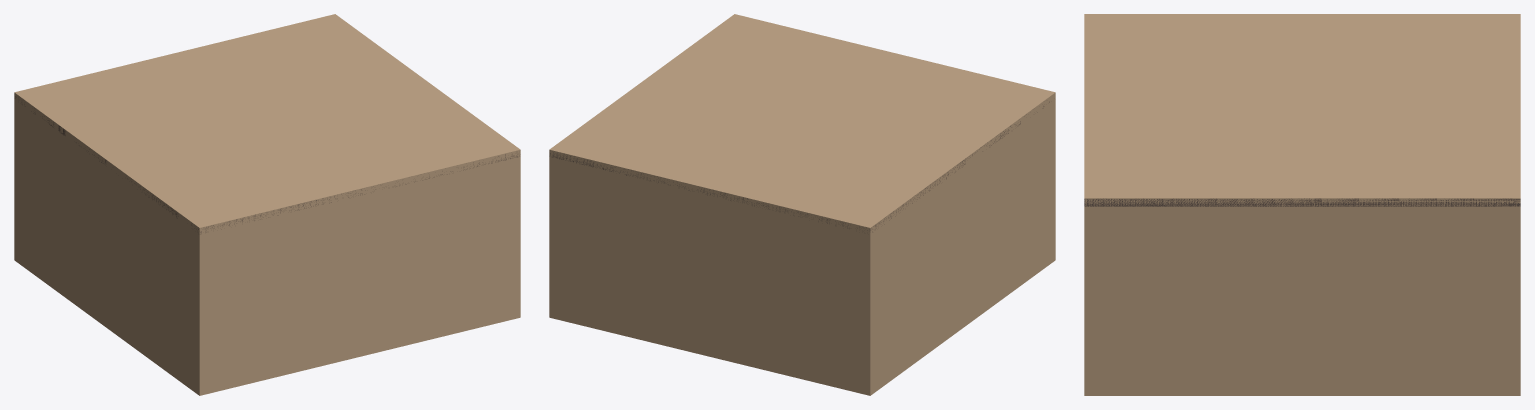
The model's file is mod_wall_wood.glb.
3 views of the same model, side by side, from view 1: azimuth 30°, elevation 25°; view 2: azimuth 150°, elevation 25°; view 3: azimuth 270°, elevation 25° (orthographic). The views are drawn at different scales.
Visible parts, largest first — view 1: module_wood_wall_block_core_2m, wood_top_cap; view 2: module_wood_wall_block_core_2m, wood_top_cap; view 3: module_wood_wall_block_core_2m, wood_top_cap.
Boxes of the visible parts, x1,y1,x2,y2 form: module_wood_wall_block_core_2m: (14,14,520,395); wood_top_cap: (14,94,520,234); module_wood_wall_block_core_2m: (549,14,1055,395); wood_top_cap: (549,101,1049,232); module_wood_wall_block_core_2m: (1084,14,1520,395); wood_top_cap: (1084,198,1520,206).
Size of the model in its own units: 2 by 1 by 2.
